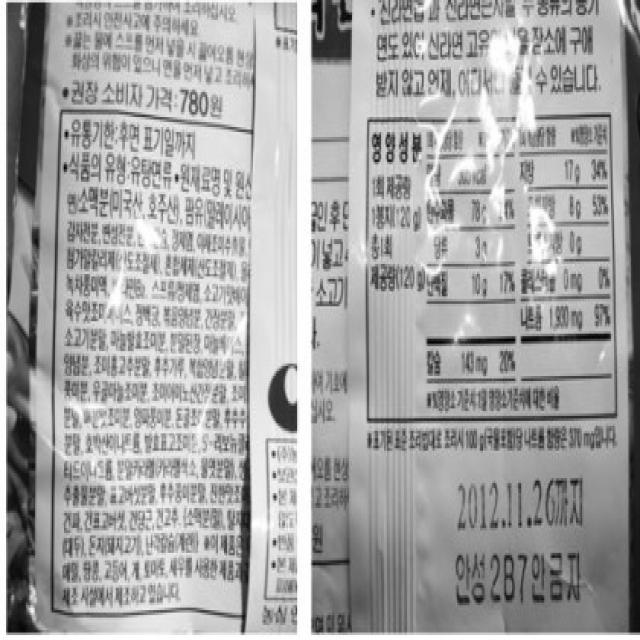Nutrition Label: (355, 104, 629, 460)
